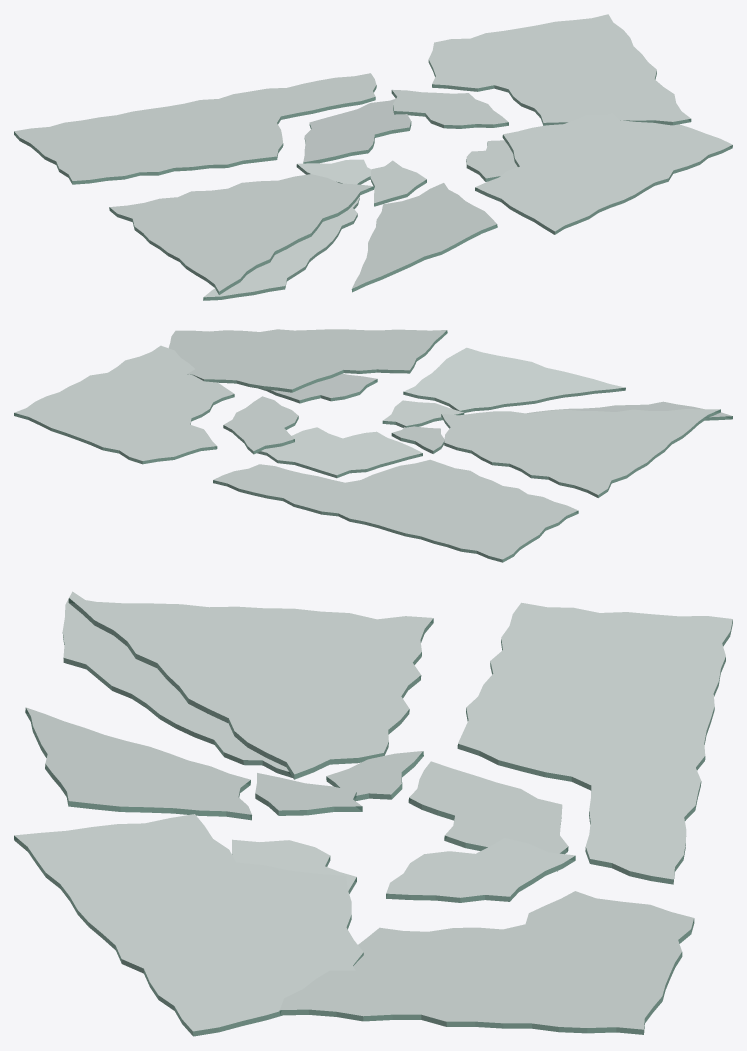
Rendered from GlassShardsLarge.obj.
3 views of the same model, one above another, from view 1: azimuth 30°, elevation 25°; view 2: azimuth 150°, elevation 25°; view 3: azimuth 270°, elevation 25° (orthographic). The views are drawn at different scales.
Parts seen in each view (by area): view 1: GlassFace, GlassEdge; view 2: GlassFace, GlassEdge; view 3: GlassFace, GlassEdge.
Boxes of the visible parts, x1=… form: GlassFace: x1=14, y1=14, x2=732, y2=300; GlassEdge: x1=14, y1=60, x2=732, y2=300; GlassFace: x1=14, y1=329, x2=731, y2=562; GlassEdge: x1=14, y1=330, x2=732, y2=562; GlassFace: x1=14, y1=591, x2=732, y2=1035; GlassEdge: x1=14, y1=598, x2=732, y2=1036.
Bounding box in the file's own units: 1.07 × 0.04 × 0.7456.
